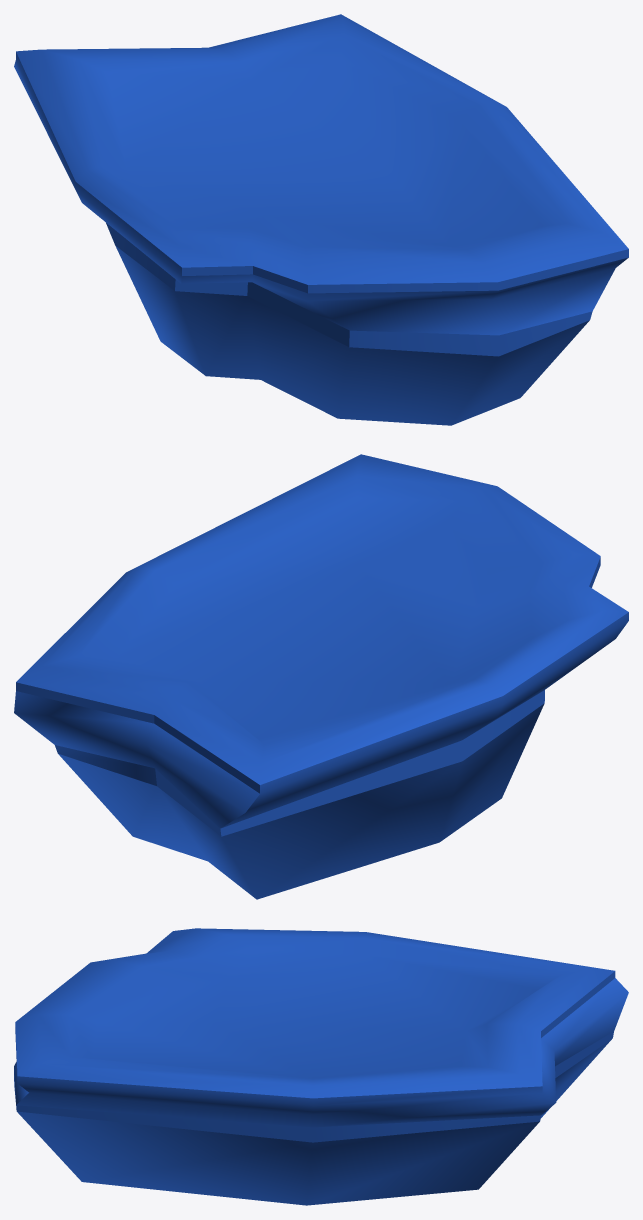
The model's file is FloatDungeon3.fbx.
3 views of the same model, one above another, from view 1: azimuth 30°, elevation 25°; view 2: azimuth 150°, elevation 25°; view 3: azimuth 270°, elevation 25° (orthographic). The views are drawn at different scales.
Visible parts, largest first — view 1: FloatDungeon3; view 2: FloatDungeon3; view 3: FloatDungeon3.
Part boxes in pixels (left/top/right/bottom): FloatDungeon3: left=14, top=14, right=628, bottom=425; FloatDungeon3: left=14, top=454, right=628, bottom=899; FloatDungeon3: left=14, top=928, right=628, bottom=1205.
Size of the model in its own units: 290 by 450 by 142.
